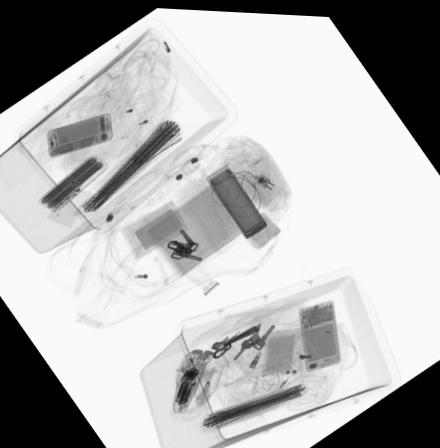Powerbank: (263, 328, 294, 371)
